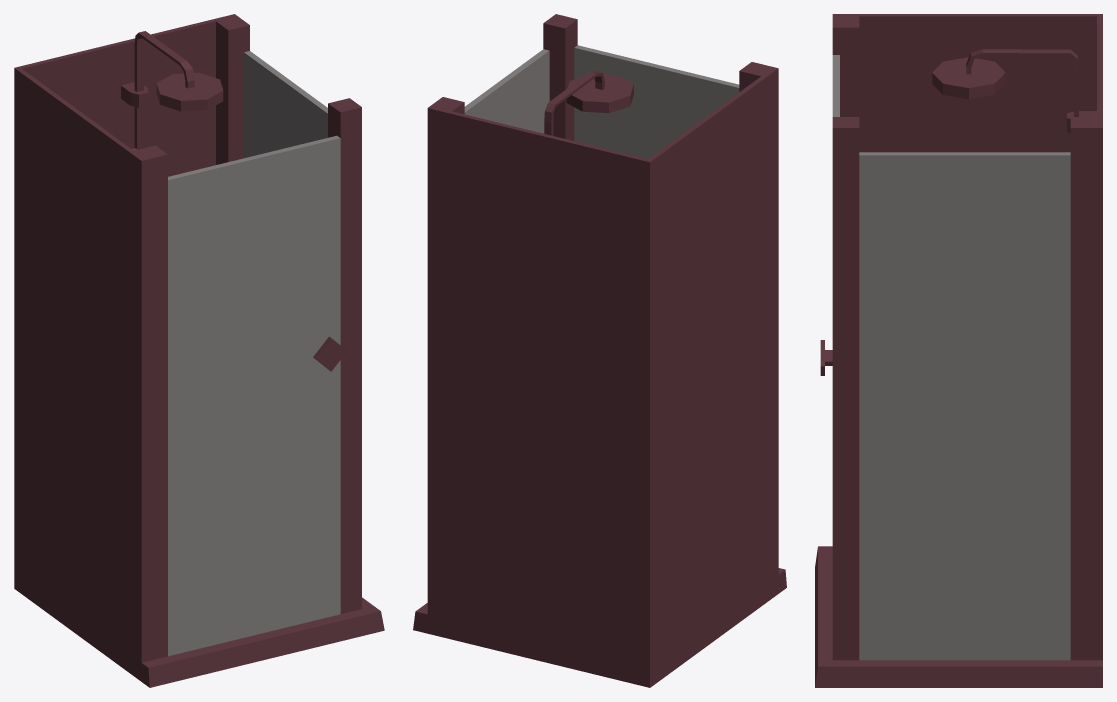
The model's file is shower-enclosure-rectangle.fbx.
3 views of the same model, side by side, from view 1: azimuth 30°, elevation 25°; view 2: azimuth 150°, elevation 25°; view 3: azimuth 270°, elevation 25° (orthographic). The views are drawn at different scales.
Visible parts, largest first — view 1: shower-enclosure-rectangle; view 2: shower-enclosure-rectangle; view 3: shower-enclosure-rectangle.
Boxes of the visible parts, bbox=[...] form: shower-enclosure-rectangle: bbox=[14, 14, 384, 687]; shower-enclosure-rectangle: bbox=[413, 14, 786, 687]; shower-enclosure-rectangle: bbox=[815, 14, 1102, 687].
Size of the model in its own units: 0.98 by 2.16 by 0.98.
